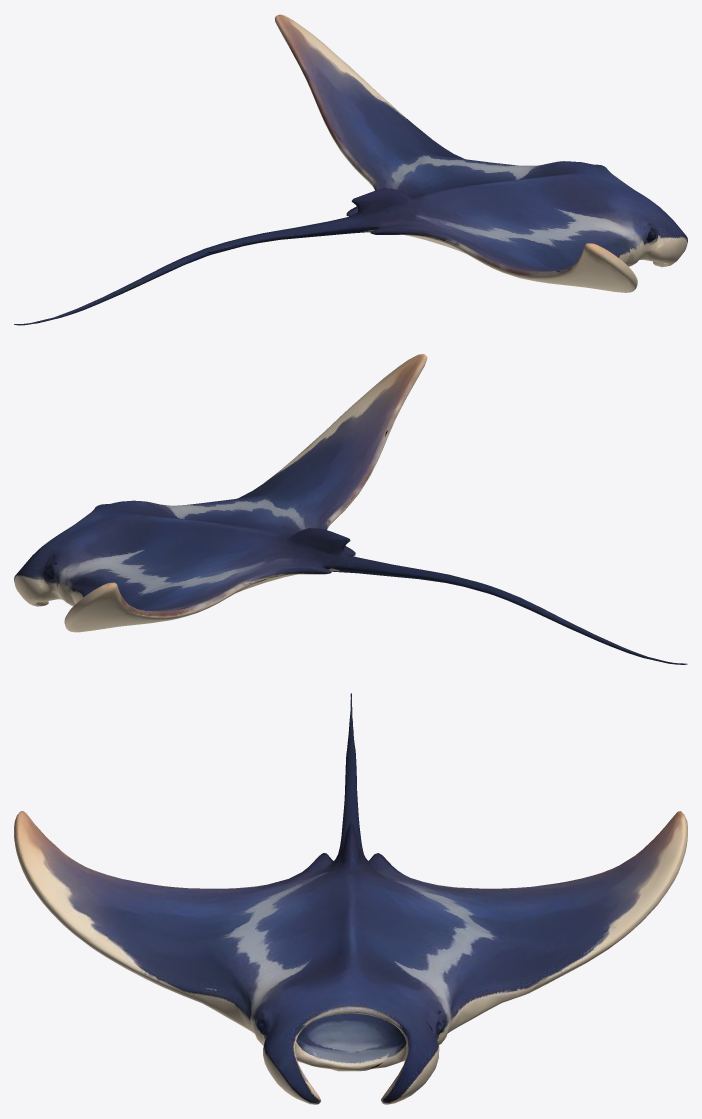
File: manta.glb
The picture shows the model from 3 angles, top to bottom: view 1: azimuth 30°, elevation 25°; view 2: azimuth 150°, elevation 25°; view 3: azimuth 270°, elevation 25°; orthographic projection. The views are drawn at different scales.
Parts seen in each view (by area): view 1: node_0.001; view 2: node_0.001; view 3: node_0.001.
Part boxes in pixels (left/top/right/bottom): node_0.001: left=14, top=14, right=687, bottom=325; node_0.001: left=14, top=354, right=687, bottom=664; node_0.001: left=14, top=693, right=687, bottom=1104.
Size of the model in its own units: 2.34 by 0.6008 by 2.
1 material, 1 textured.
